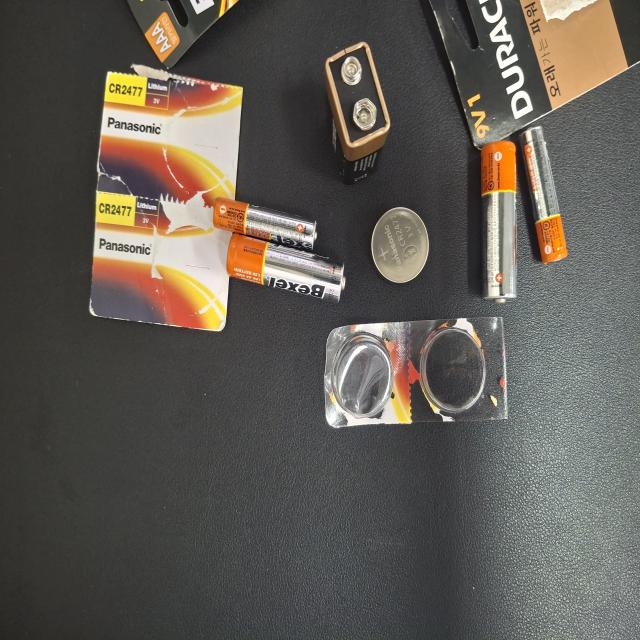9V: (32, 333, 138, 421)
AA: (176, 394, 227, 550), (106, 164, 227, 212)
AAA: (95, 97, 197, 160), (149, 432, 187, 568)
COIN: (156, 282, 212, 358)
